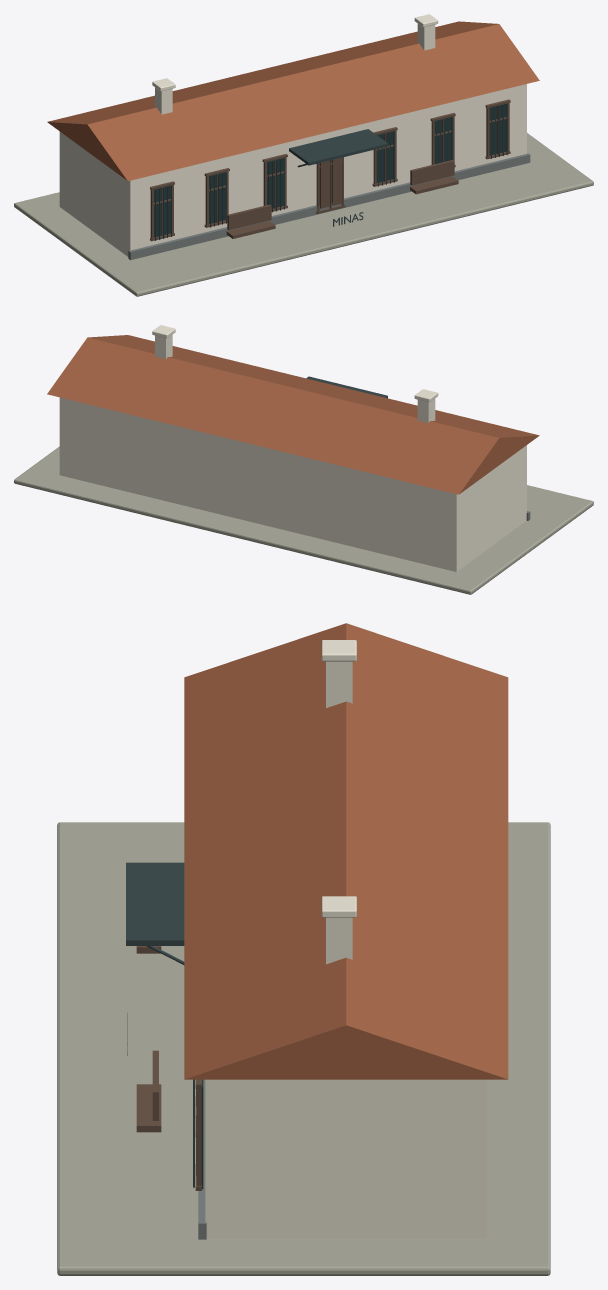
Rendered from gms-35.glb.
3 renders of one model, top to bottom at view 1: azimuth 30°, elevation 25°; view 2: azimuth 150°, elevation 25°; view 3: azimuth 270°, elevation 25°, orthographic. The views are drawn at different scales.
Parts seen in each view (by area): view 1: Red double-pitch railway roof, ridge parallel to facade, Long single-storey railway station, Context plinth, Grilled station window jamb, Grilled station window iron bar, Grilled station window recess, Station grey plinth; view 2: Long single-storey railway station, Red double-pitch railway roof, ridge parallel to facade, Context plinth; view 3: Red double-pitch railway roof, ridge parallel to facade, Context plinth, Long single-storey railway station, Grilled station window iron bar, Grilled station window jamb.
Part boxes in pixels (x1=…): Red double-pitch railway roof, ridge parallel to facade: x1=47, y1=21, x2=539, y2=180; Long single-storey railway station: x1=59, y1=14, x2=526, y2=256; Context plinth: x1=14, y1=133, x2=593, y2=296; Grilled station window jamb: x1=150, y1=99, x2=510, y2=241; Grilled station window iron bar: x1=155, y1=103, x2=507, y2=240; Grilled station window recess: x1=154, y1=103, x2=506, y2=237; Station grey plinth: x1=128, y1=153, x2=530, y2=260; Long single-storey railway station: x1=59, y1=325, x2=526, y2=571; Red double-pitch railway roof, ridge parallel to facade: x1=47, y1=335, x2=539, y2=494; Context plinth: x1=14, y1=446, x2=593, y2=594; Red double-pitch railway roof, ridge parallel to facade: x1=184, y1=623, x2=508, y2=1079; Context plinth: x1=57, y1=822, x2=550, y2=1275; Long single-storey railway station: x1=205, y1=640, x2=487, y2=1238; Grilled station window iron bar: x1=126, y1=862, x2=194, y2=1187; Grilled station window jamb: x1=136, y1=946, x2=201, y2=1190.
Bounding box in the file's own units: 15 × 4.36 × 7.
